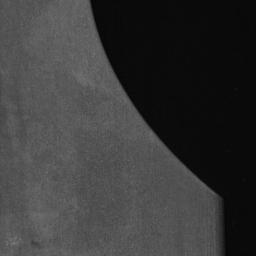Crescent gap: (90, 0, 220, 198)
